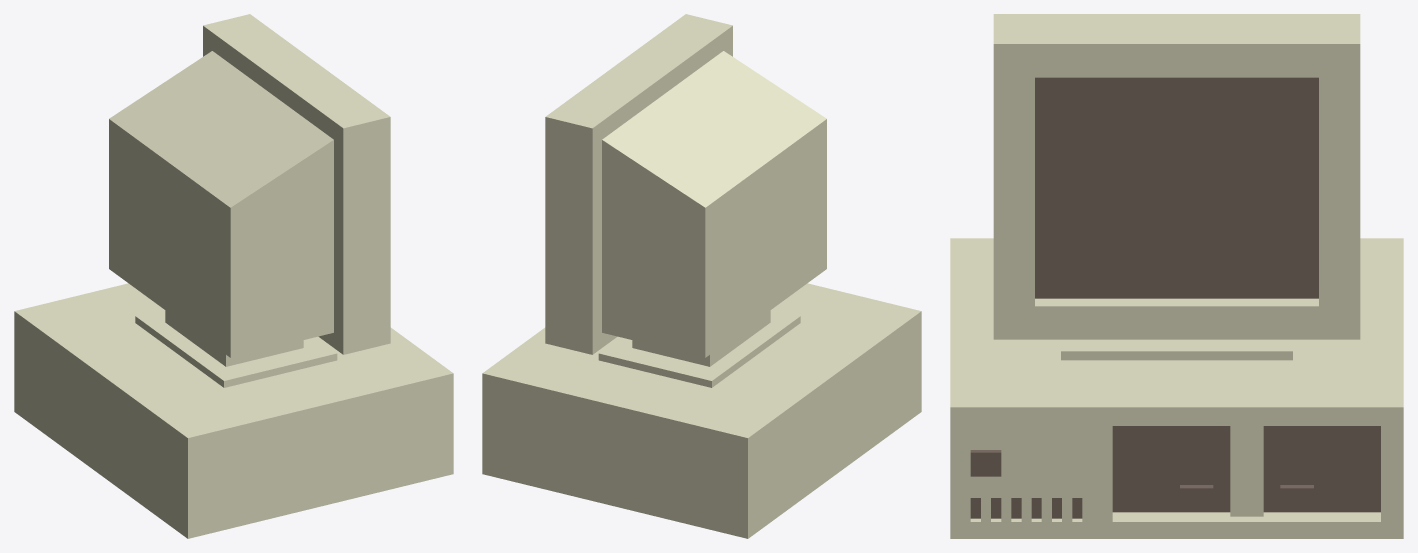
The model's file is computer.fbx.
3 views of the same model, side by side, from view 1: azimuth 30°, elevation 25°; view 2: azimuth 150°, elevation 25°; view 3: azimuth 270°, elevation 25° (orthographic). The views are drawn at different scales.
Visible parts, largest first — view 1: Cube.006; view 2: Cube.006; view 3: Cube.006.
Boxes of the visible parts, <box> form: Cube.006: <box>14,14,453,538</box>; Cube.006: <box>482,14,921,538</box>; Cube.006: <box>950,14,1403,538</box>.
Bounding box in the file's own units: 249 × 315 × 278.
